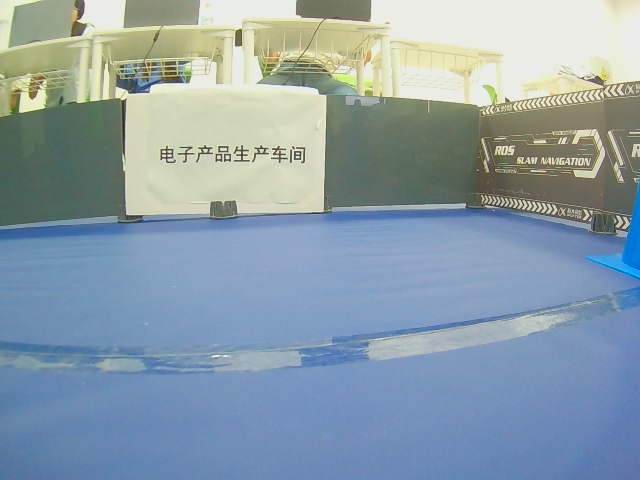target: (159, 145, 308, 165)
